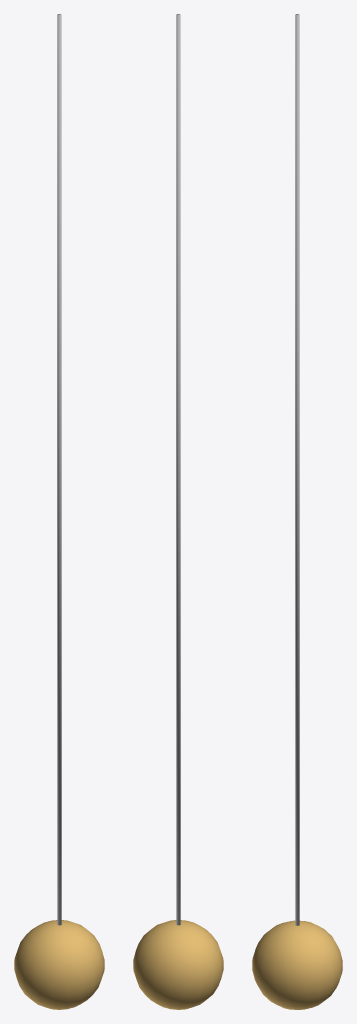
Rendered from pendulum_snake_p8.glb.
The picture shows the model from 3 angles, left to right: view 1: azimuth 30°, elevation 25°; view 2: azimuth 150°, elevation 25°; view 3: azimuth 330°, elevation 25°; orthographic projection.
Visible parts, largest first — view 1: Sphere8.001, Pendulum8.001; view 2: Sphere8.001, Pendulum8.001; view 3: Sphere8.001, Pendulum8.001.
Part boxes in pixels (<box>): Sphere8.001: <box>14,920,104,1009</box>; Pendulum8.001: <box>57,14,61,925</box>; Sphere8.001: <box>133,920,223,1009</box>; Pendulum8.001: <box>176,14,180,925</box>; Sphere8.001: <box>252,920,342,1009</box>; Pendulum8.001: <box>295,14,299,925</box>.
Bounding box in the file's own units: 0.0397 × 0.4854 × 0.04.
